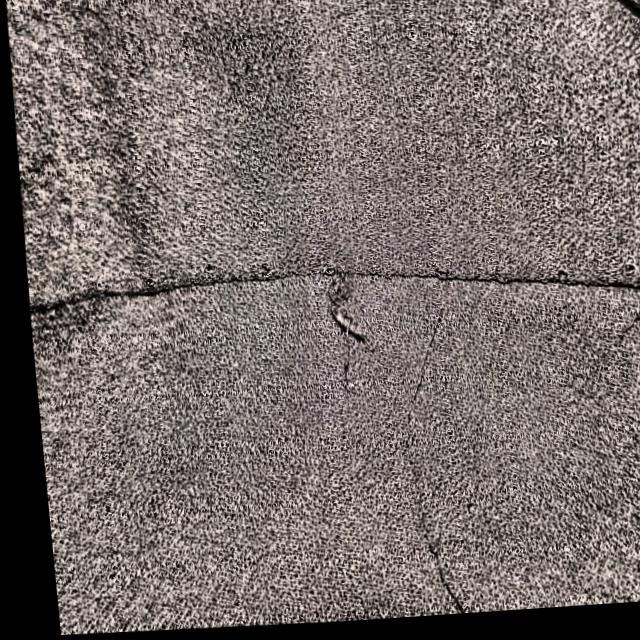Stitch: (250, 185, 526, 627)
